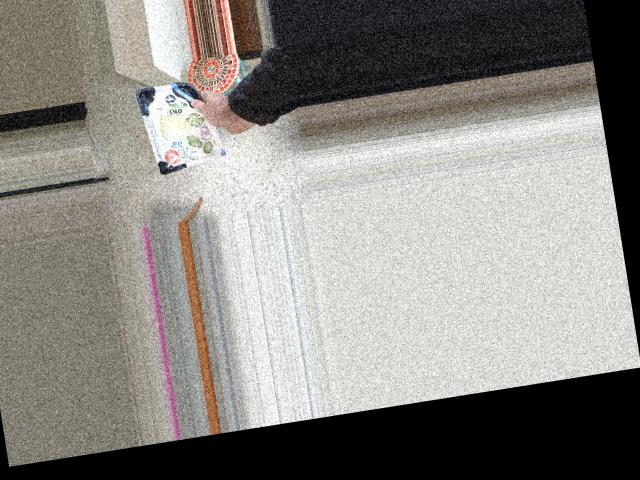cheese: (160, 90, 240, 170)
